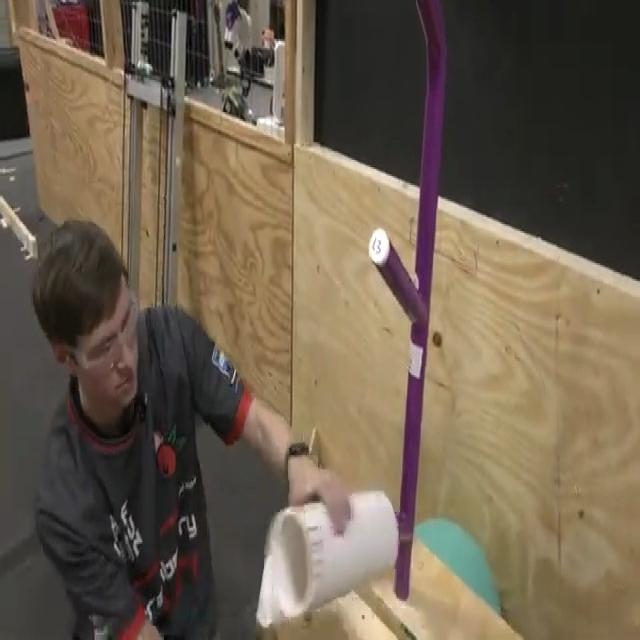Coral: (255, 486, 400, 628)
